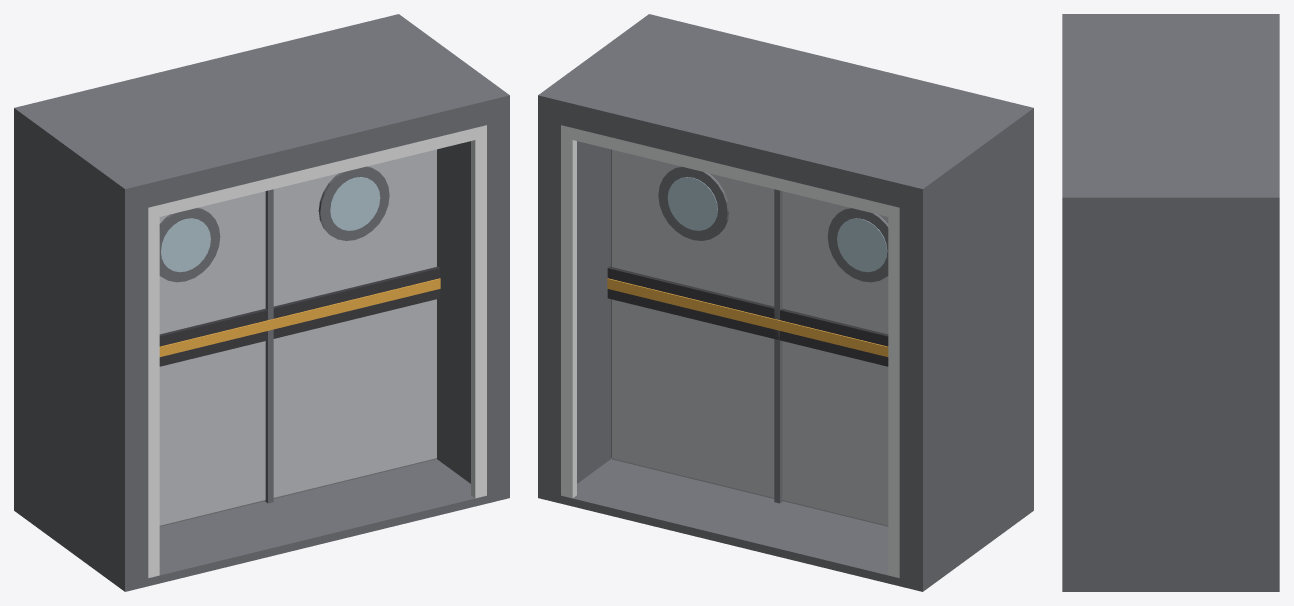
The model's file is door_shut.gltf.
The picture shows the model from 3 angles, left to right: view 1: azimuth 30°, elevation 25°; view 2: azimuth 150°, elevation 25°; view 3: azimuth 270°, elevation 25°; orthographic projection. The views are drawn at different scales.
Parts seen in each view (by area): view 1: door_shut; view 2: door_shut; view 3: door_shut.
Boxes of the visible parts, left/top/right/bottom form: door_shut: left=14, top=14, right=509, bottom=591; door_shut: left=538, top=14, right=1033, bottom=591; door_shut: left=1062, top=14, right=1279, bottom=591.
Bounding box in the file's own units: 2 × 2 × 1.
